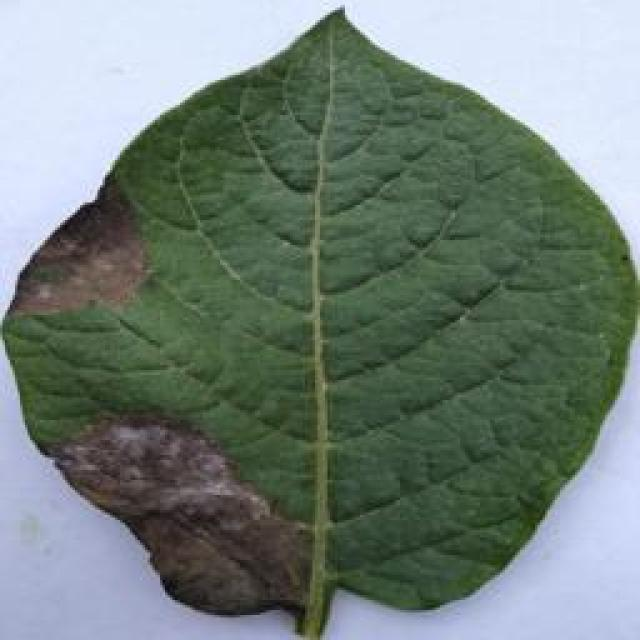Potato_Late_Blight: (0, 0, 628, 625)
